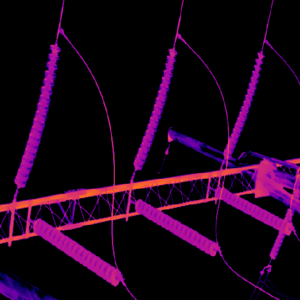insulator: (12, 43, 61, 188), (31, 215, 121, 287), (132, 46, 177, 170), (133, 195, 218, 258), (221, 50, 264, 160), (214, 183, 292, 235), (267, 208, 295, 258)
